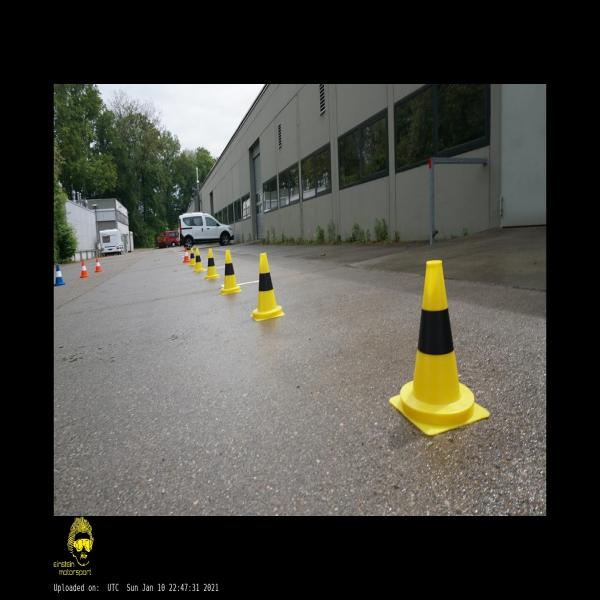blue_cone: (54, 264, 66, 286)
orange_cone: (79, 259, 89, 278), (94, 258, 102, 273), (183, 247, 190, 262)
yellow_cone: (390, 260, 490, 436), (250, 253, 285, 322), (220, 250, 241, 295), (204, 248, 220, 282), (194, 248, 204, 273), (188, 247, 196, 267)
